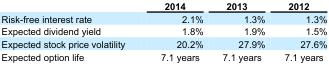table: (0, 0, 326, 61)
table column: (0, 0, 142, 61), (142, 0, 212, 61), (212, 0, 274, 61), (274, 0, 326, 61)
table column header: (0, 0, 326, 12)
table row: (0, 24, 326, 37), (0, 37, 326, 50), (0, 0, 326, 12), (0, 12, 326, 24), (0, 50, 326, 61)
